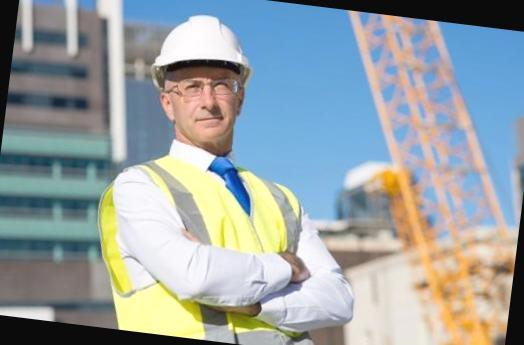helmet: (146, 5, 258, 85)
person: (82, 1, 367, 345)
